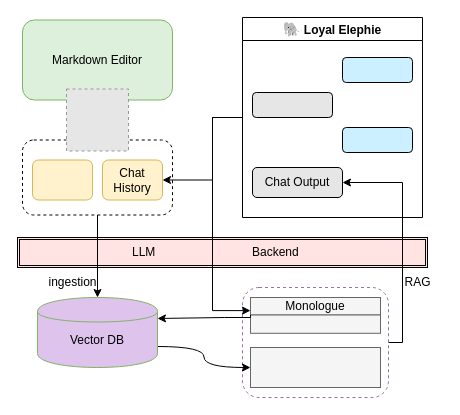
Image size: 460x415. Some labels were removed from this diagram. Grey dashed boxes stand in for pictures. The shapes that lost their labels are listed below. From the top down, each one's centre as x and y in pixels, then its label:
point 62,179: Notes
point 315,323: Search Query
point 315,367: 1. Context 2. 3.
